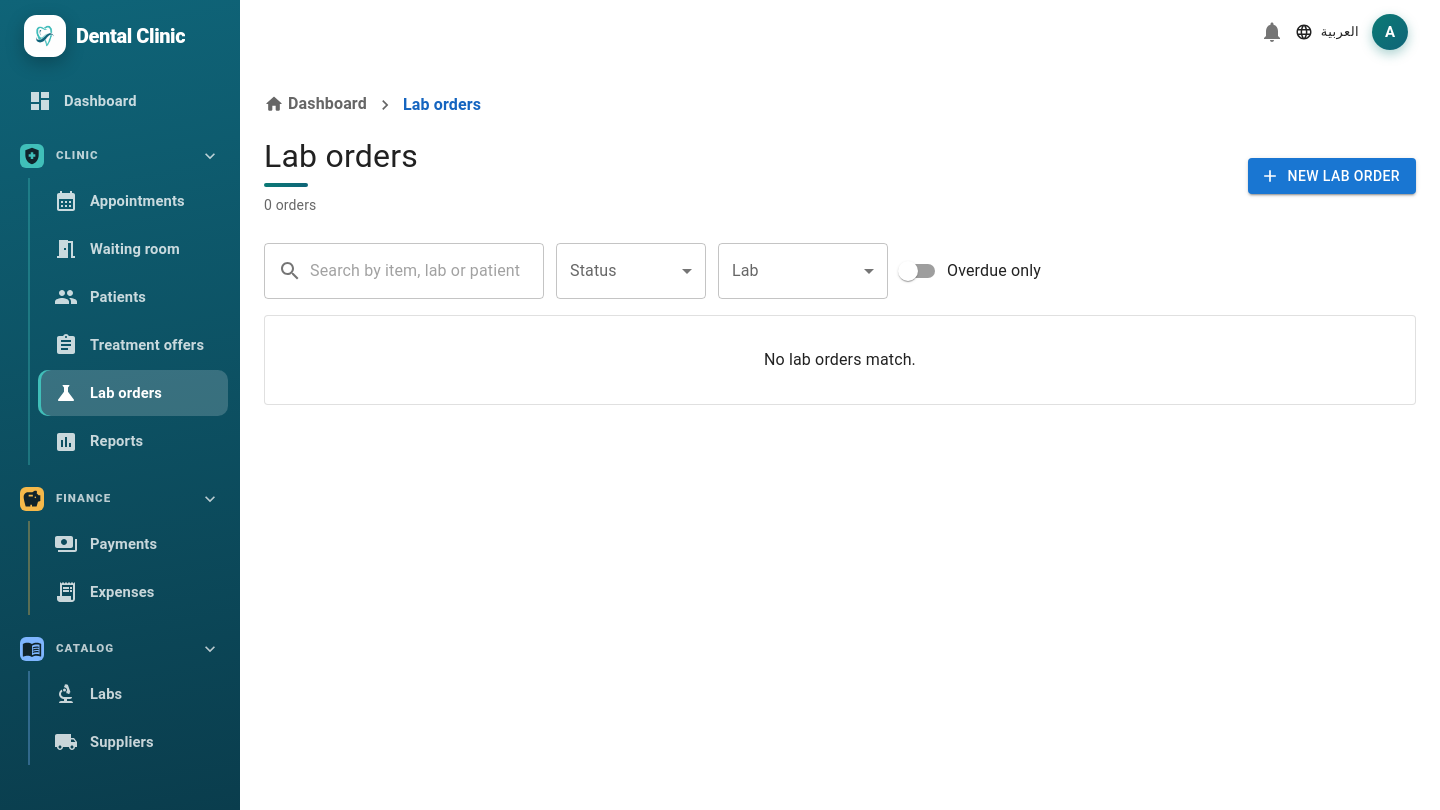
lab orders › asks for the lab and the item before saving
Click the button "New lab order" at x=1332, y=176, box [1248,158,1416,194]
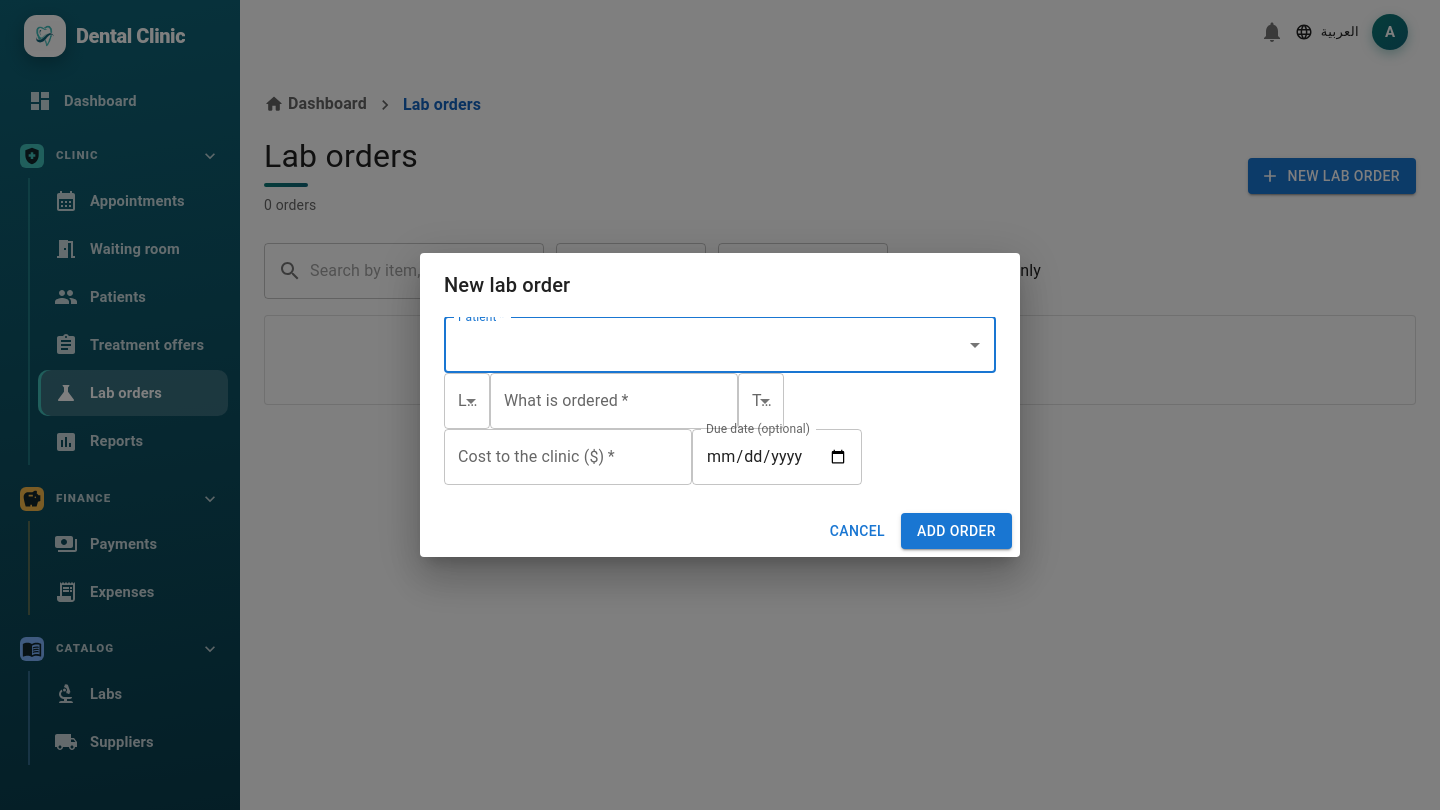
Click the button "Add order" at x=957, y=531, box [901,513,1012,549]
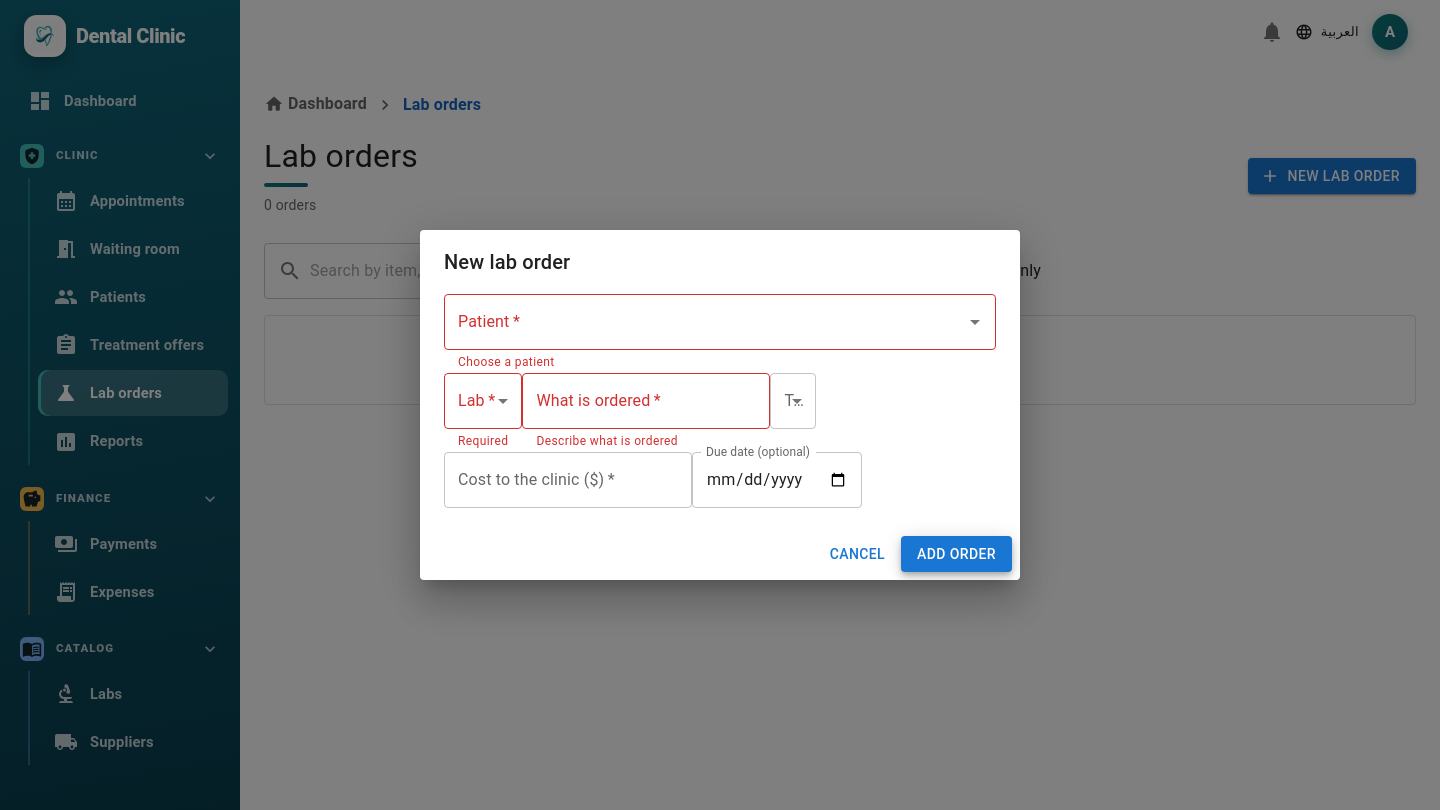
Result: the text "Describe what is ordered" is shown at [536,434,678,448]
